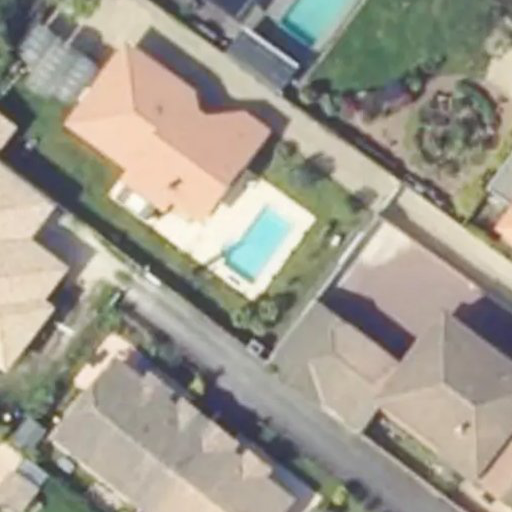pool: (222, 205, 294, 288), (290, 3, 362, 47)
